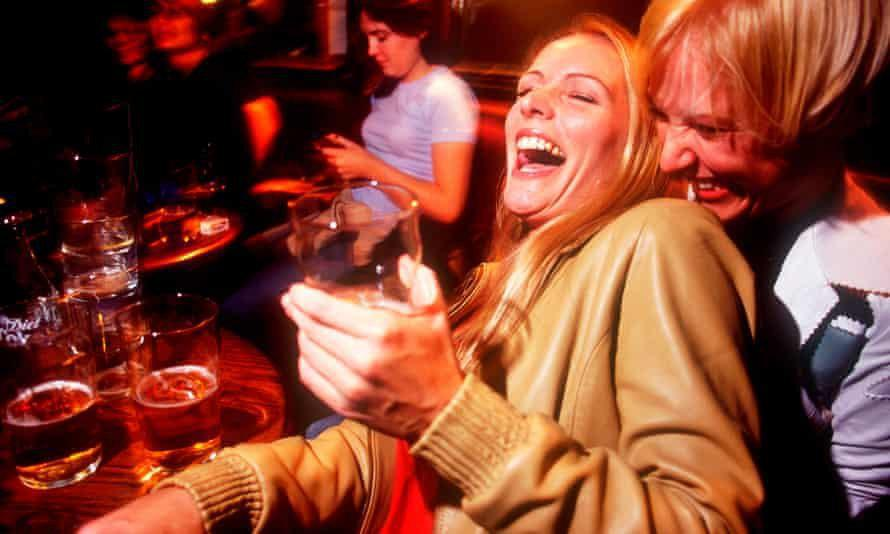Drunk: (652, 35, 766, 217), (508, 56, 608, 211)
